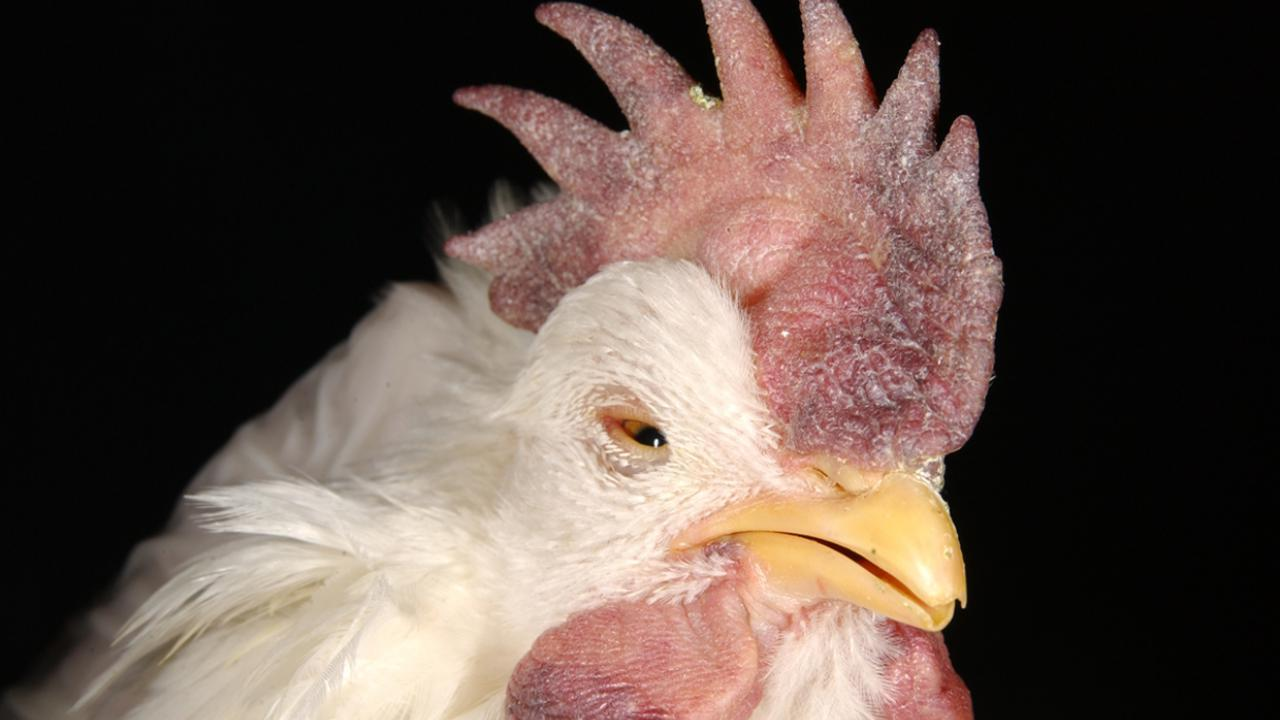AbNormal: (445, 7, 1003, 469)
